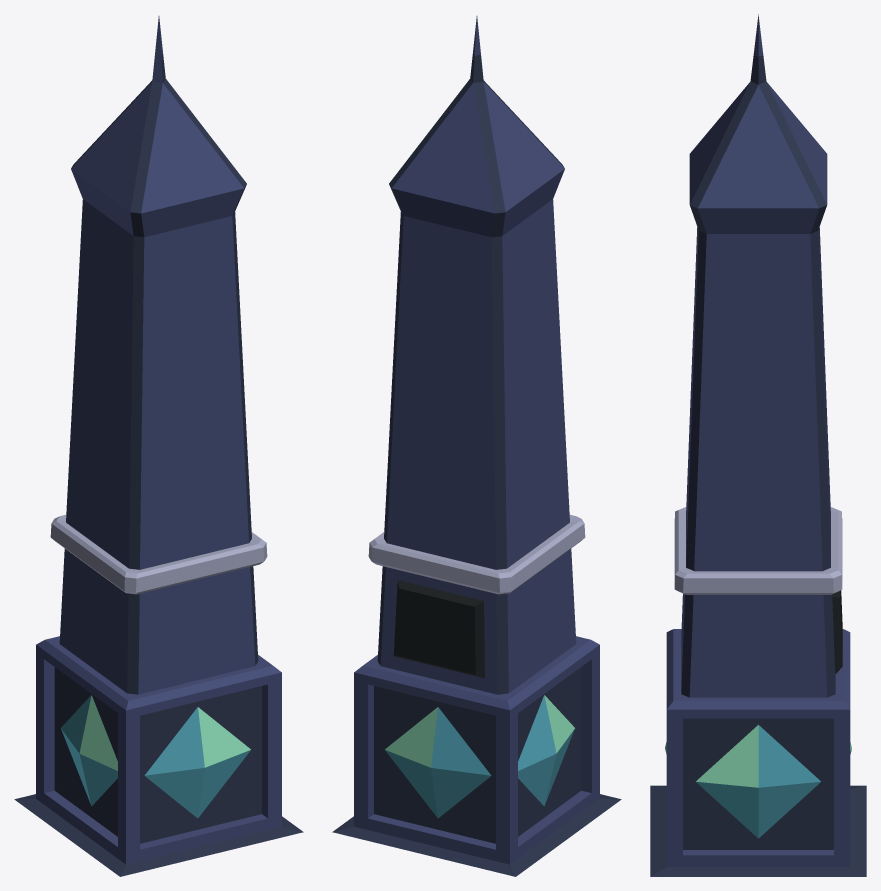
File: memorial.fbx
3 views of the same model, side by side, from view 1: azimuth 30°, elevation 25°; view 2: azimuth 150°, elevation 25°; view 3: azimuth 270°, elevation 25° (orthographic).
Parts seen in each view (by area): view 1: Cube; view 2: Cube; view 3: Cube.
Part boxes in pixels (<box>): Cube: <box>14,16,303,876</box>; Cube: <box>332,16,621,876</box>; Cube: <box>650,14,866,876</box>.
Bounding box in the file's own units: 236 × 983 × 236.
